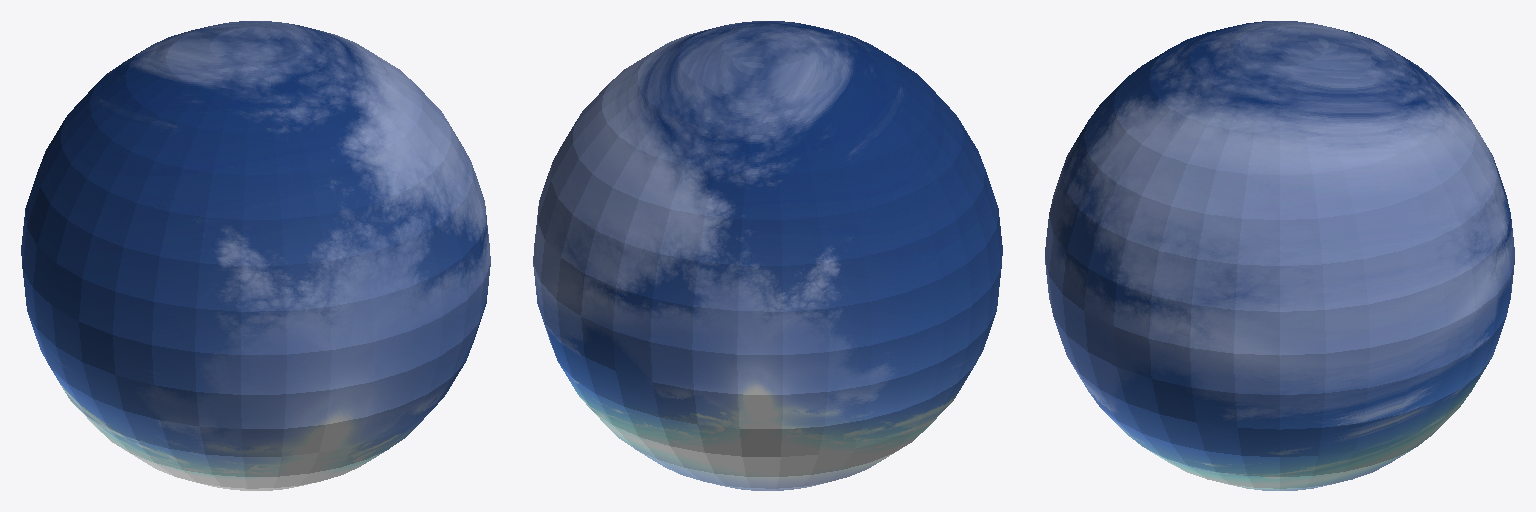
3 views of the same model, side by side, from view 1: azimuth 30°, elevation 25°; view 2: azimuth 150°, elevation 25°; view 3: azimuth 270°, elevation 25° (orthographic).
Parts seen in each view (by area): view 1: Sphere; view 2: Sphere; view 3: Sphere.
Part boxes in pixels (x1,y1,x2,y2): Sphere: (21,21,490,490); Sphere: (533,21,1002,490); Sphere: (1045,21,1514,490).
Bounding box in the file's own units: 2 × 2 × 2.
Materials: 1 (1 with a texture image).